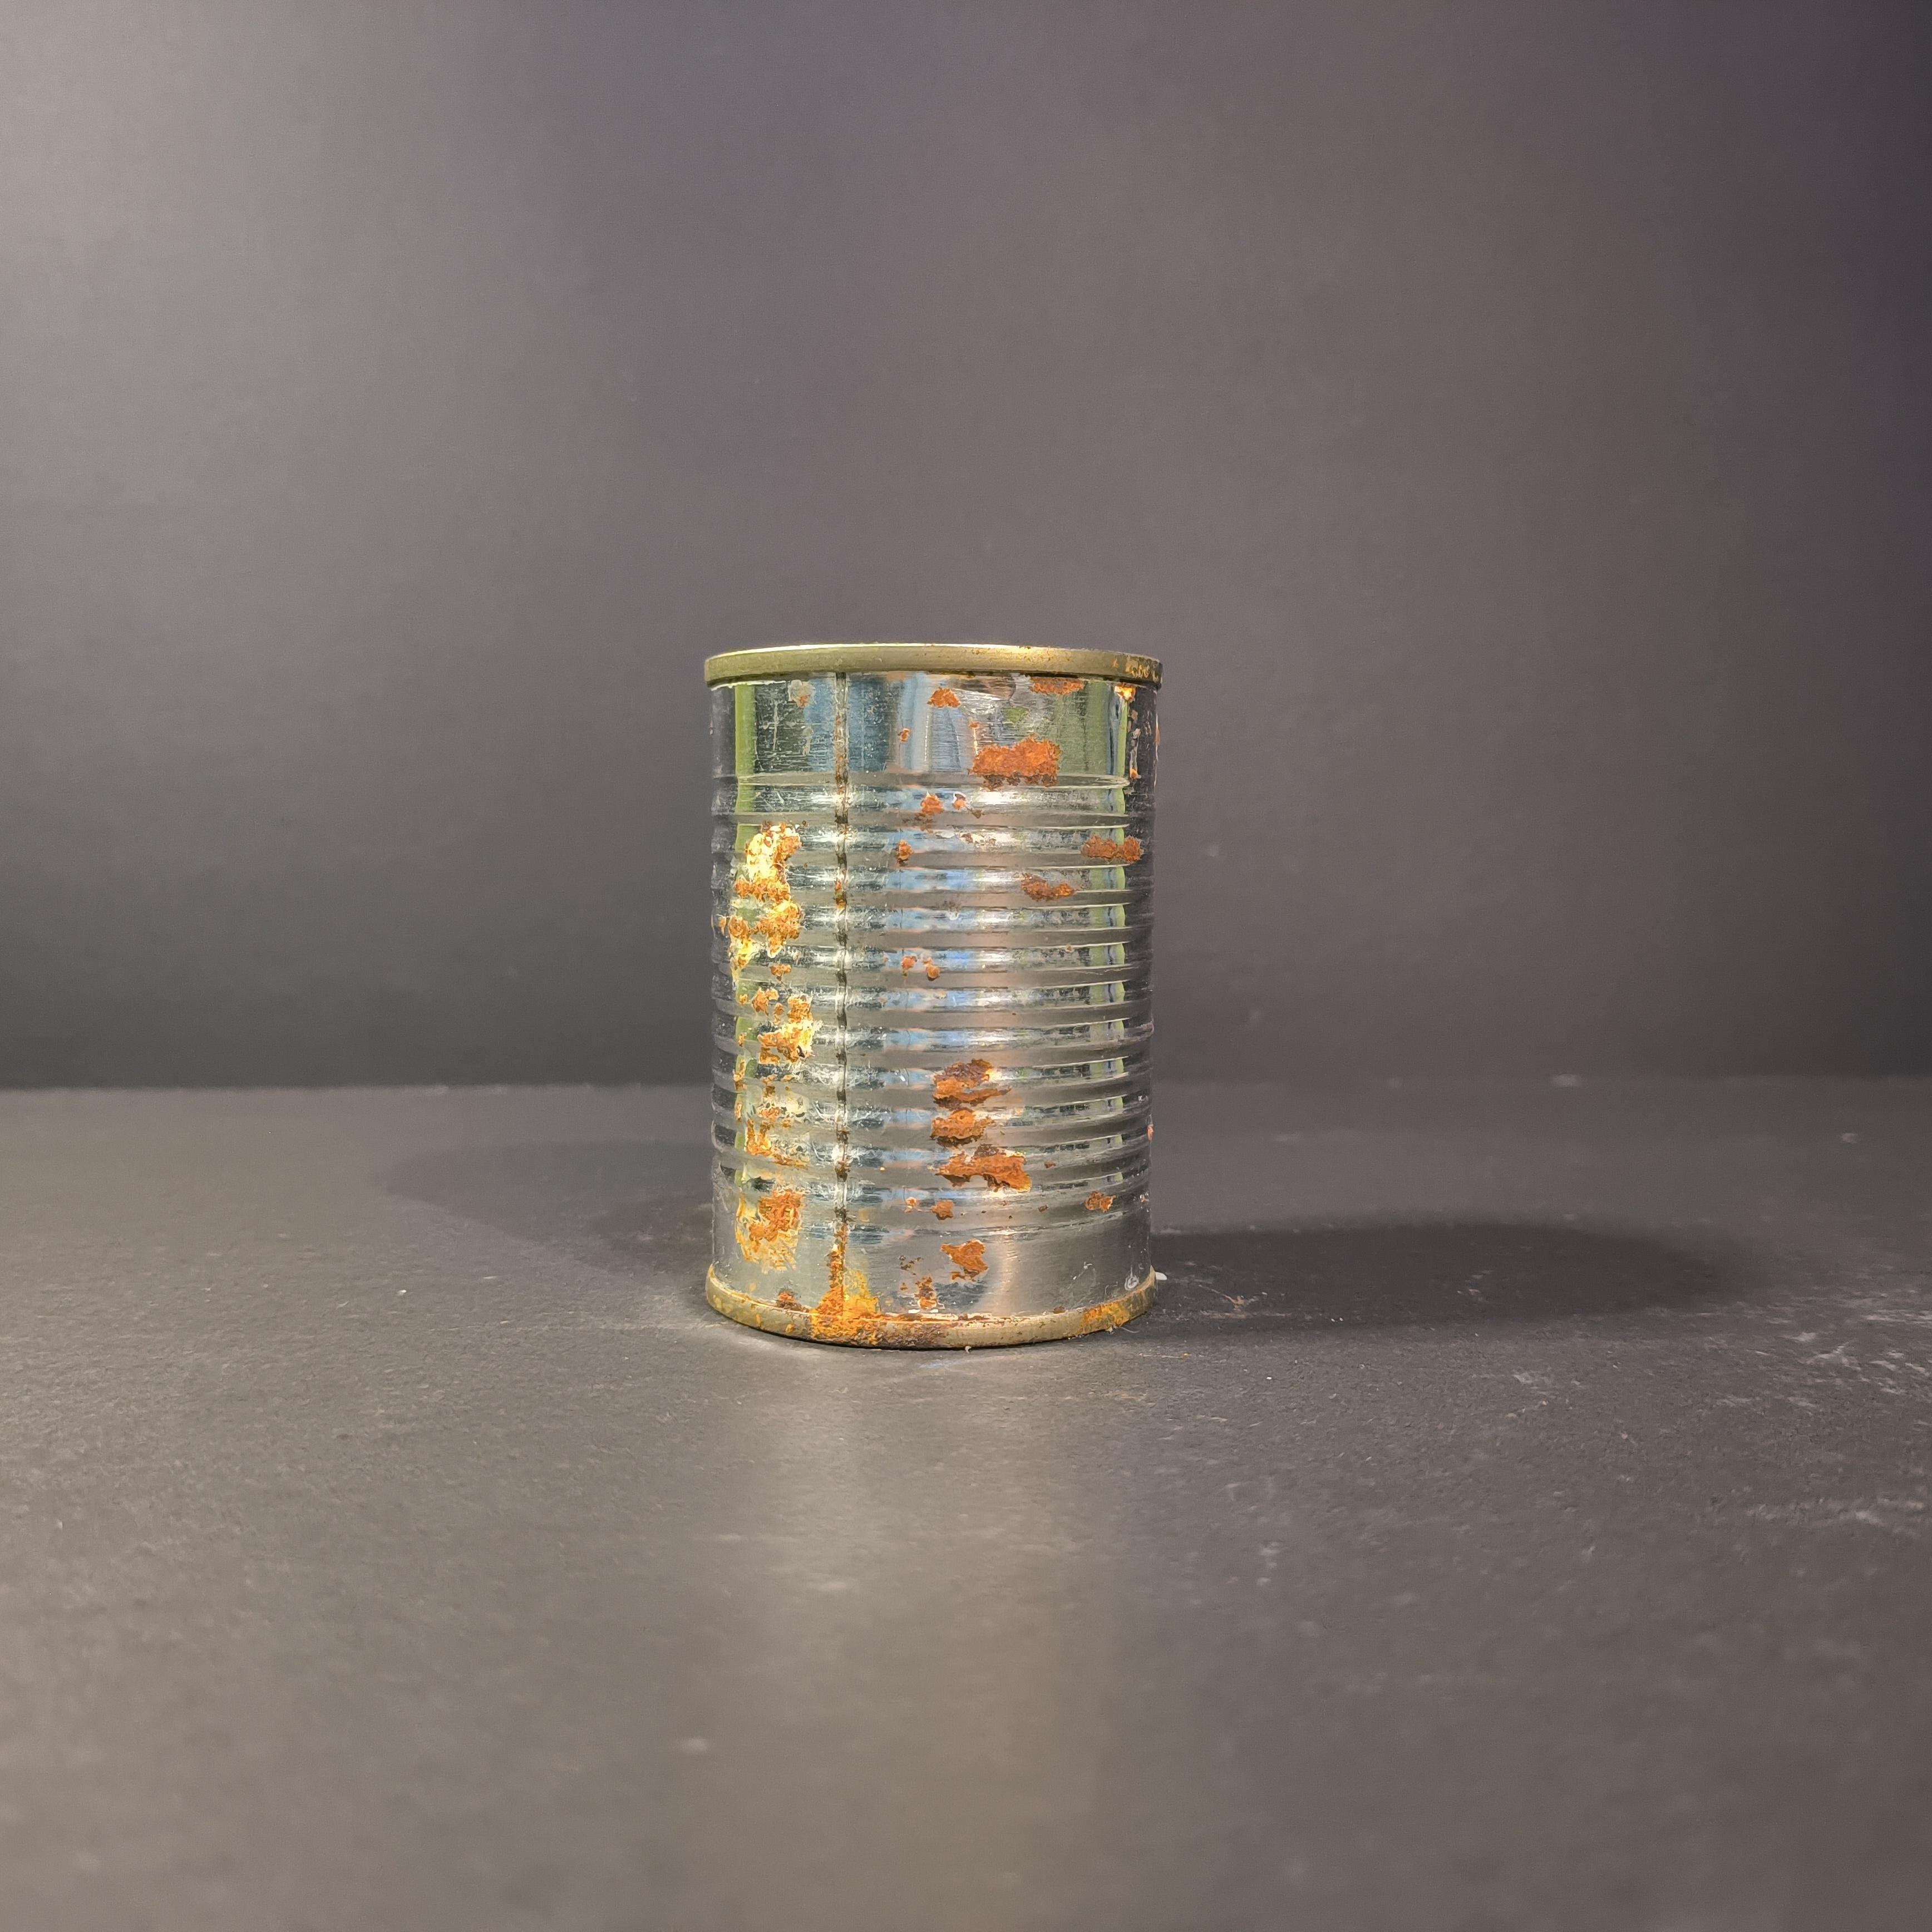Rusted: (684, 632, 1182, 1369)
